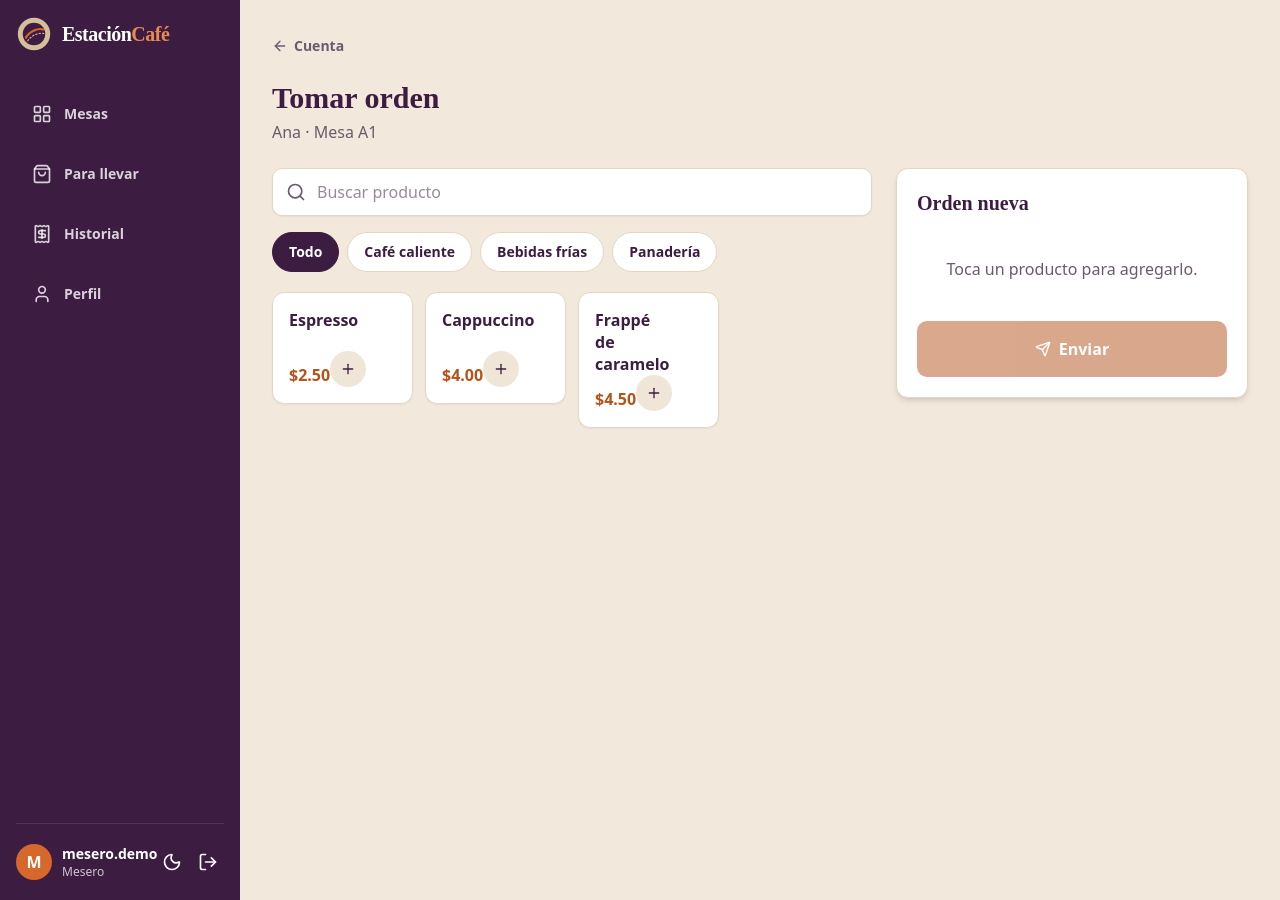
Test: Flujo del mesero › stock insuficiente avisa y conserva la orden
Click the button with aria-label "Agregar Frappé" at [648, 360], box [578,292,719,428]
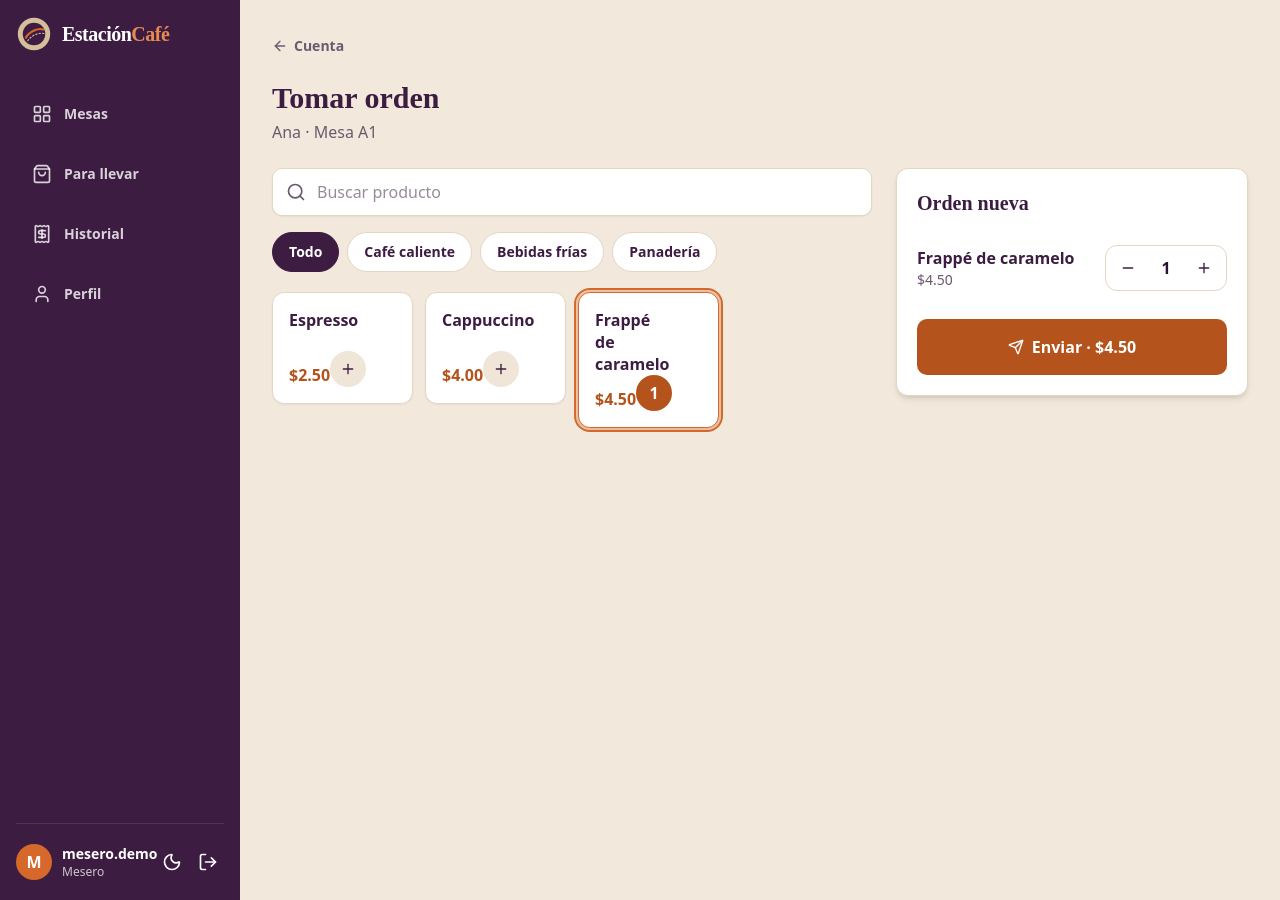
Click the button with aria-label "Agregar Frappé" at [648, 360], box [578,292,719,428]
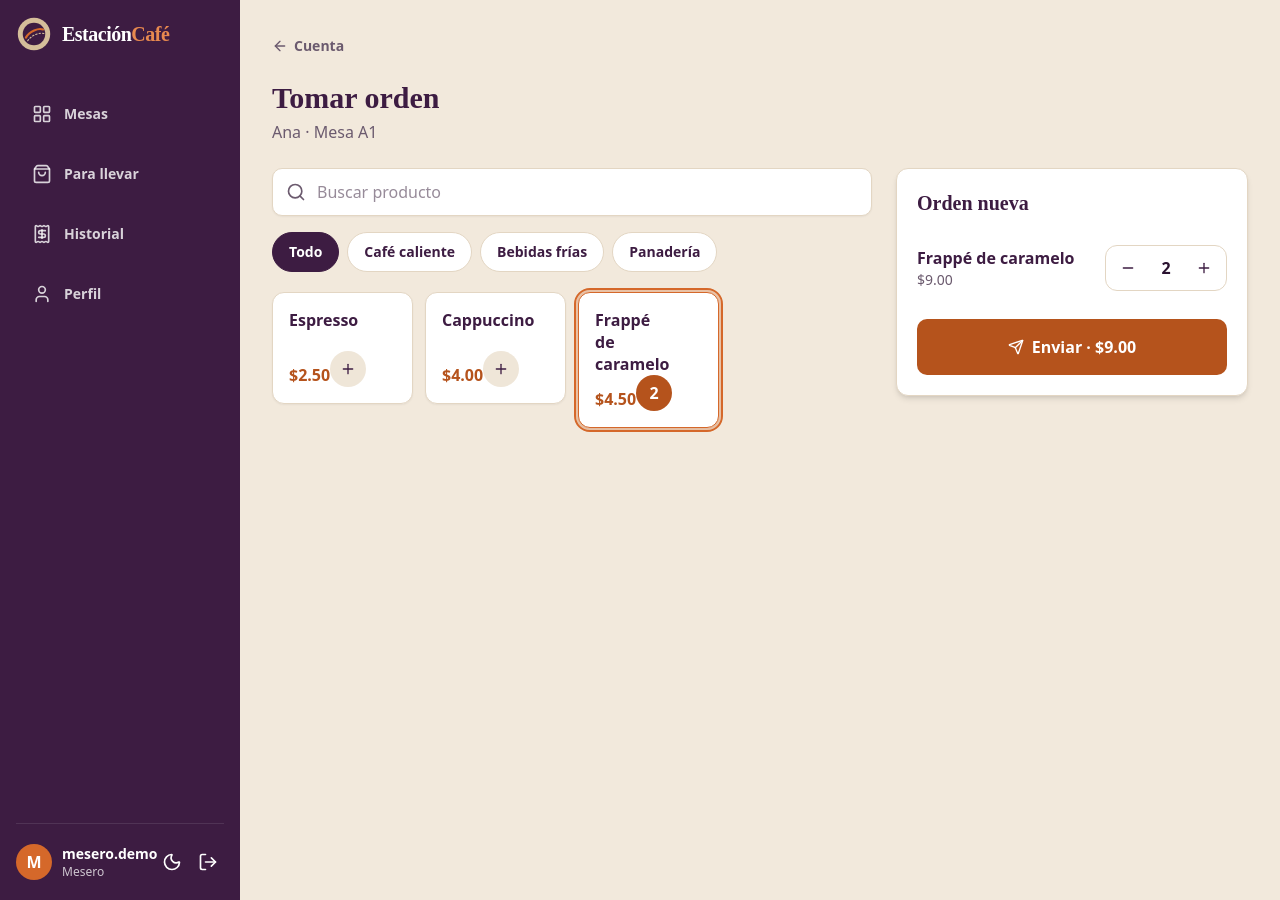
Click the button with aria-label "Agregar Frappé" at [648, 360], box [578,292,719,428]
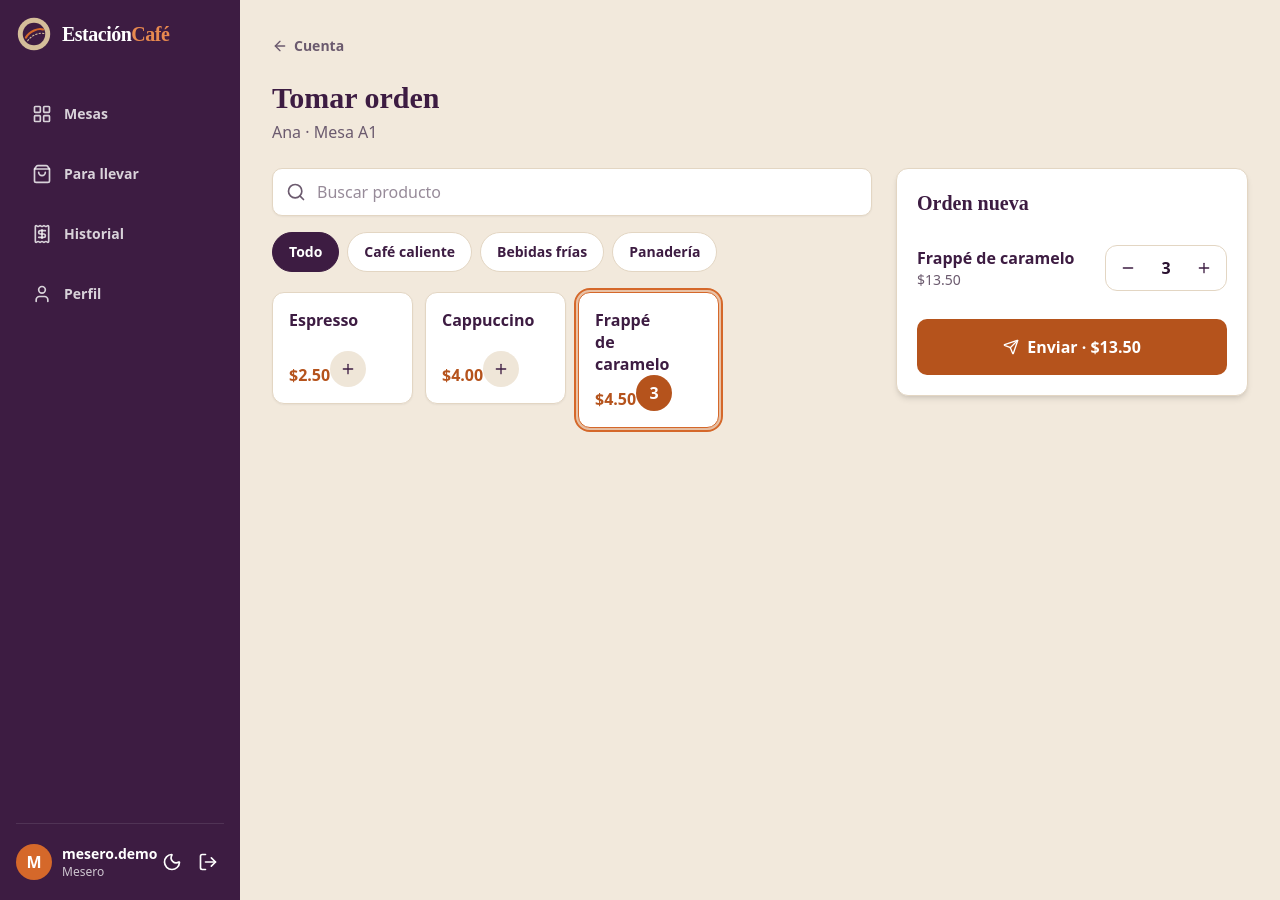
Click the button "Enviar · $13.50" at [1072, 347], box [917,319,1227,375]
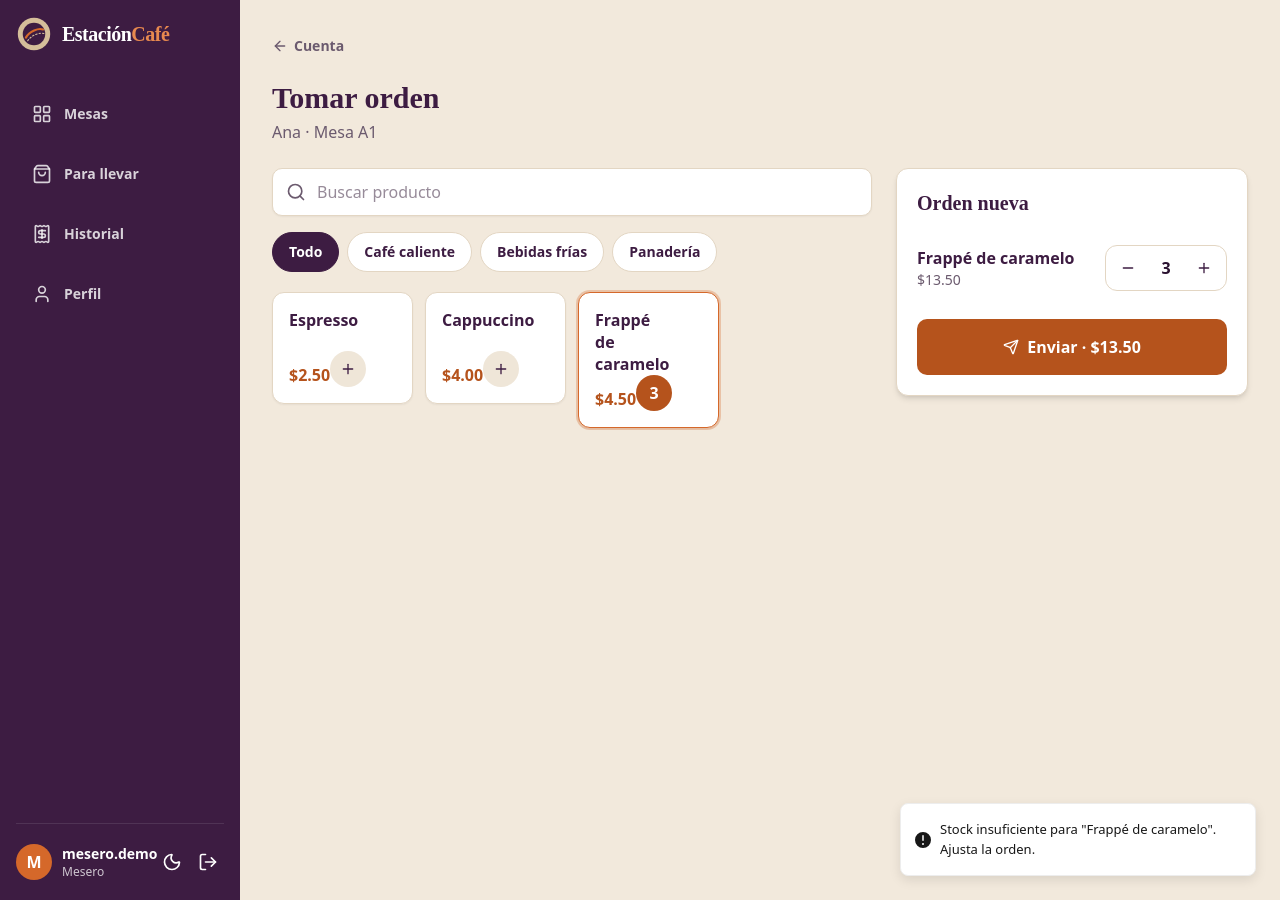
Expected: the text "Stock insuficiente para \"Frappé de caramelo\"" is shown, [940,820,1216,858]
